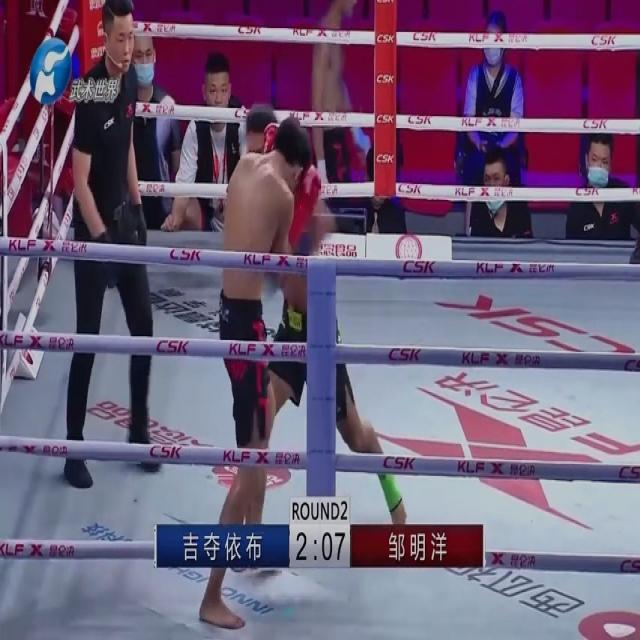fight: (206, 112, 407, 637)
non-fight: (24, 0, 172, 489)
